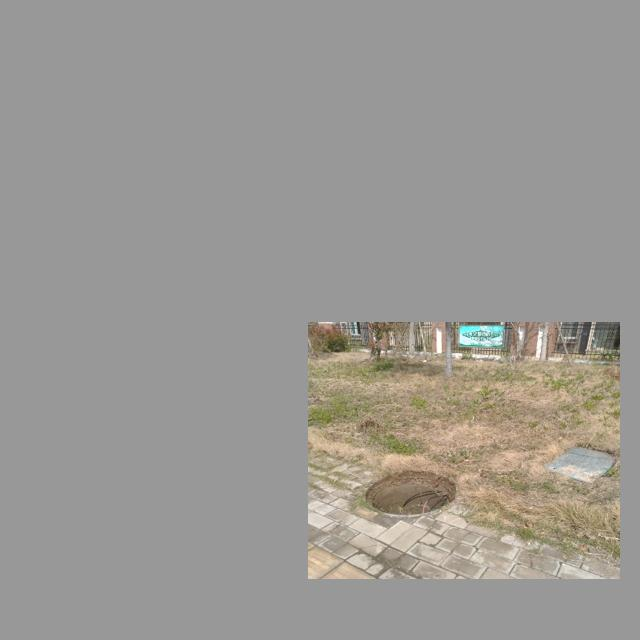lose: (363, 465, 462, 516)
